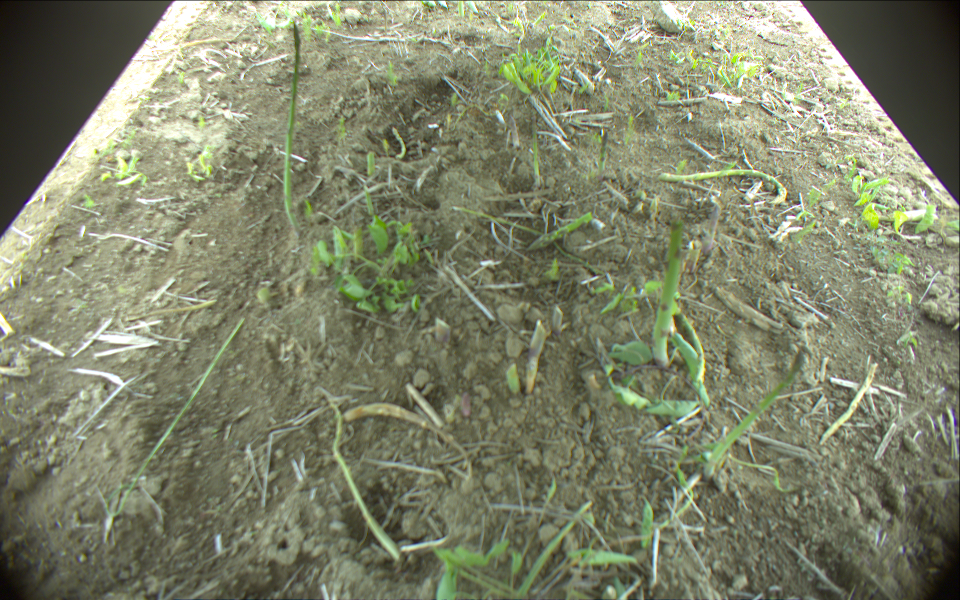aspa: (113, 318, 242, 524), (323, 392, 397, 560), (707, 351, 805, 476), (652, 219, 684, 370), (823, 363, 880, 445), (663, 168, 790, 204), (283, 21, 300, 220), (527, 211, 591, 252), (526, 320, 544, 391), (529, 106, 542, 185), (508, 109, 521, 150), (392, 126, 407, 159), (598, 132, 608, 179), (505, 364, 519, 396), (363, 187, 376, 221), (554, 308, 562, 337), (368, 148, 375, 173)
